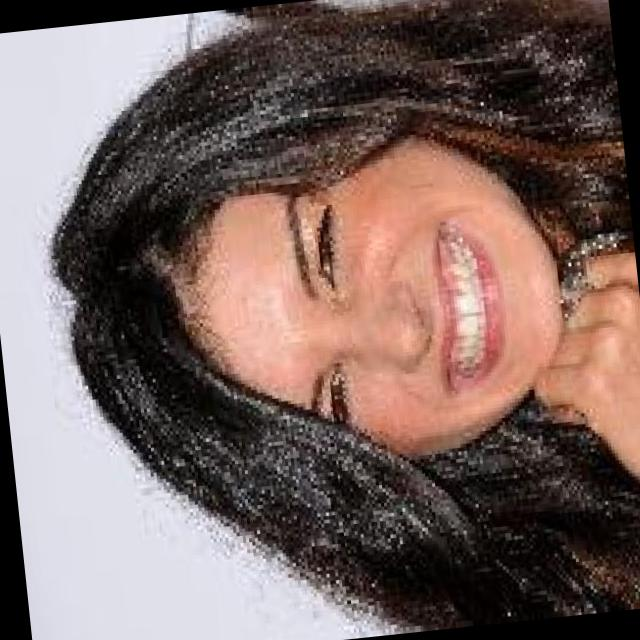bareface: (134, 66, 592, 494)
